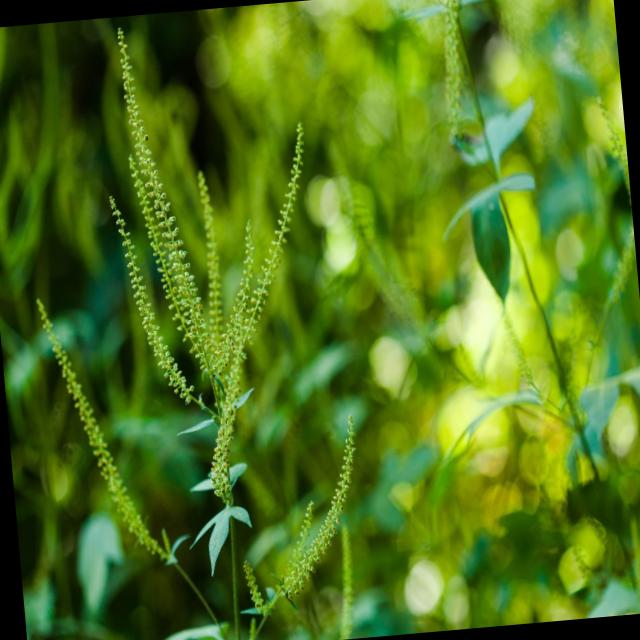ambrosia: (94, 19, 318, 481), (237, 393, 393, 640)
